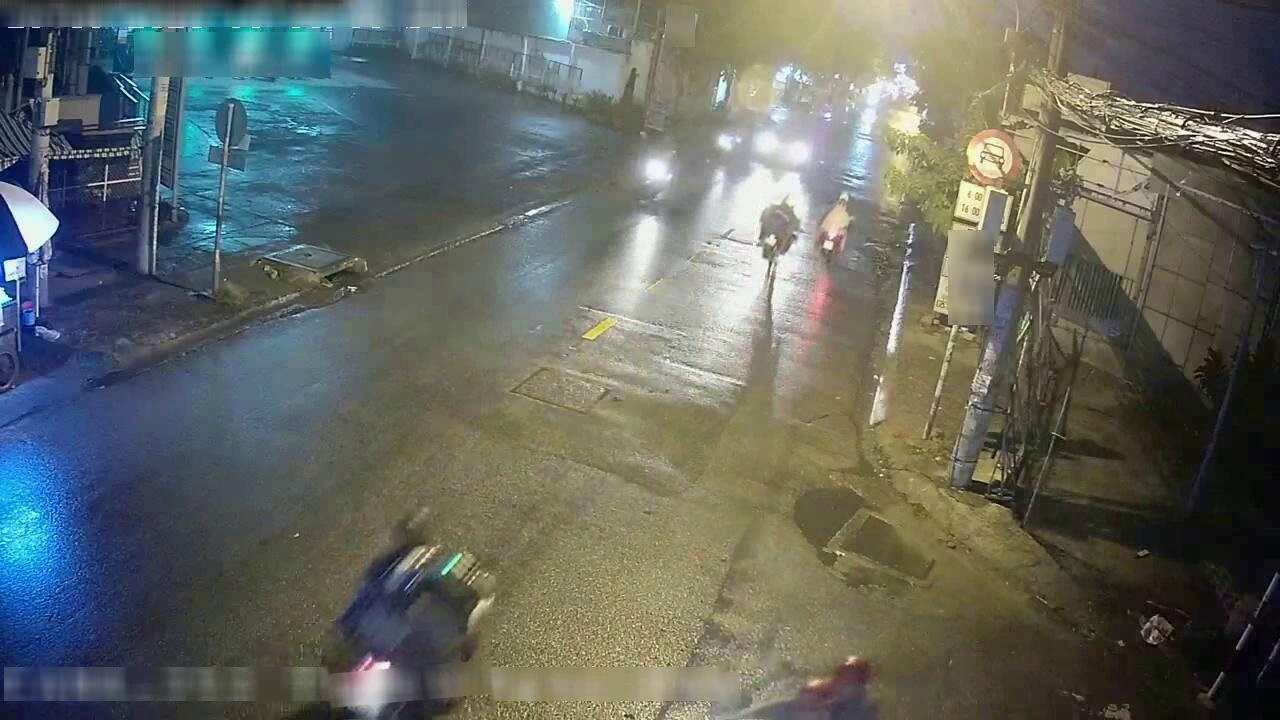Car: (750, 119, 812, 171)
Motorcyclist: (333, 519, 495, 719), (723, 656, 878, 719), (633, 139, 677, 205), (757, 195, 800, 259), (816, 192, 851, 259), (711, 121, 743, 165)
Sign: (215, 98, 247, 147)
